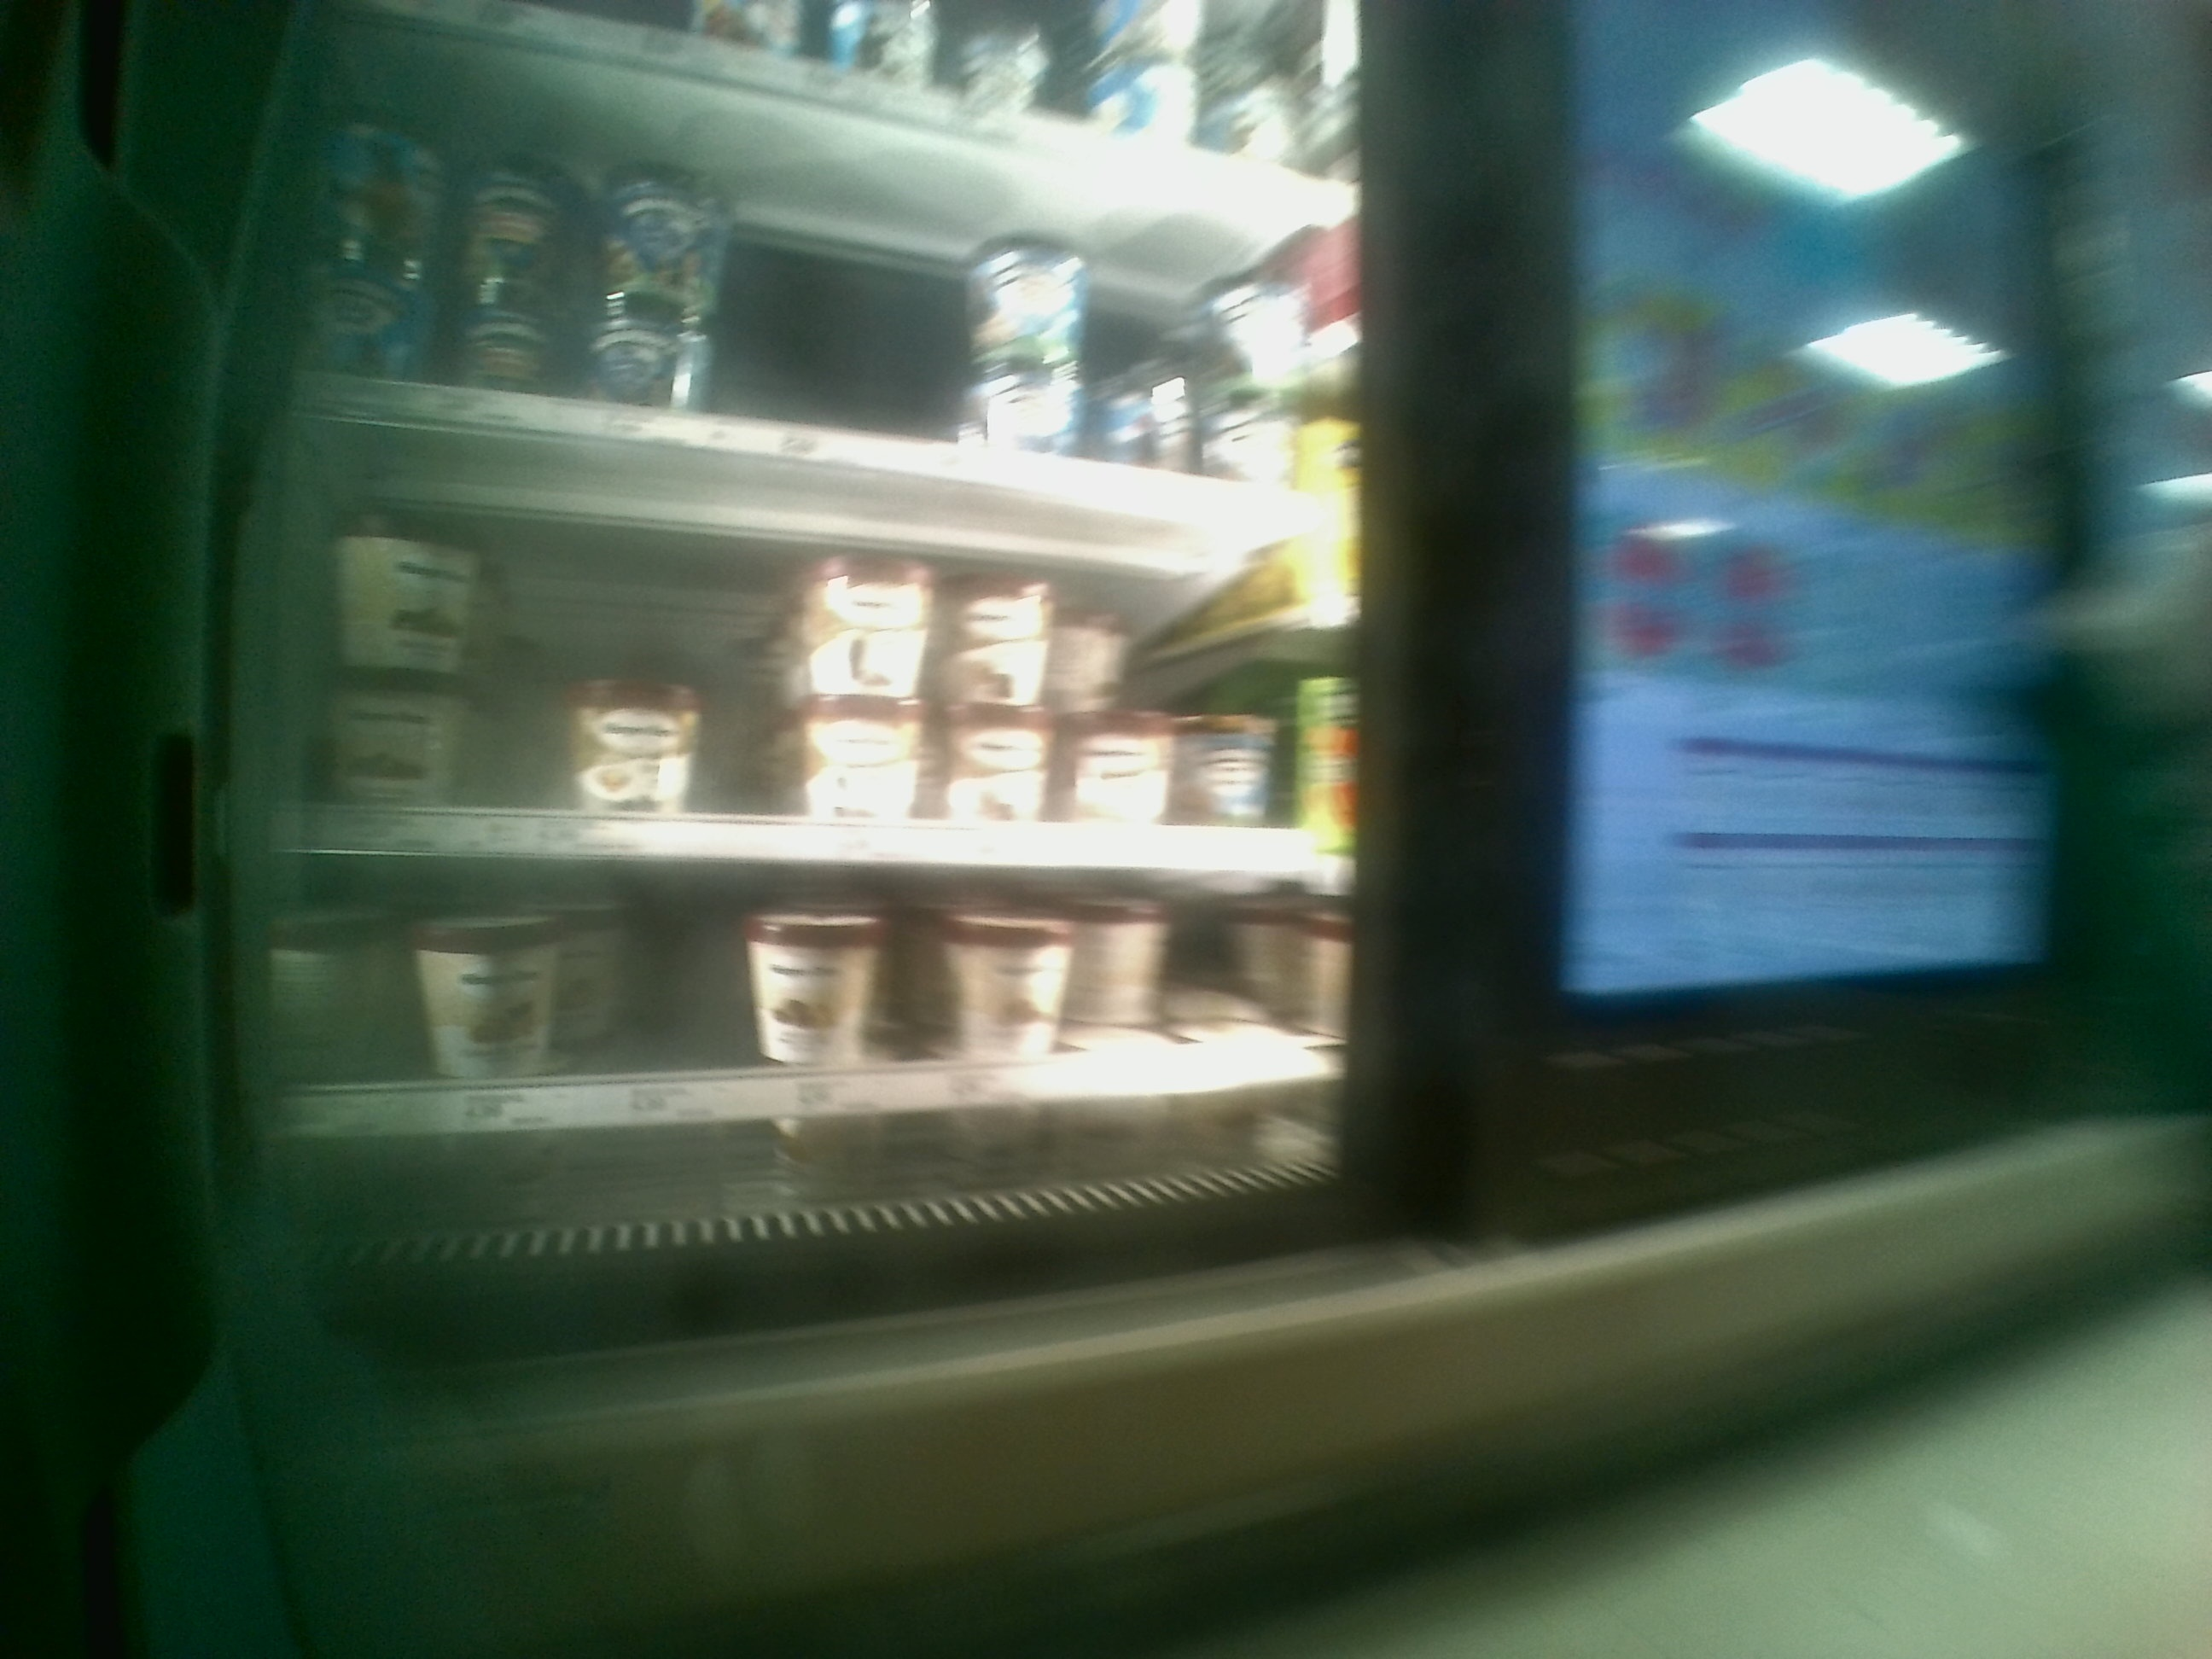shelf: (291, 413, 1359, 864), (284, 854, 1360, 1173)
